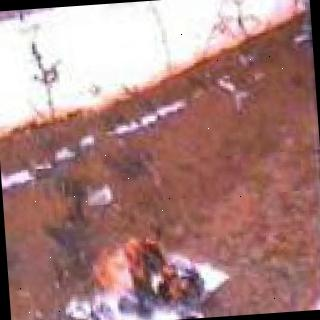fire: (84, 231, 213, 320)
